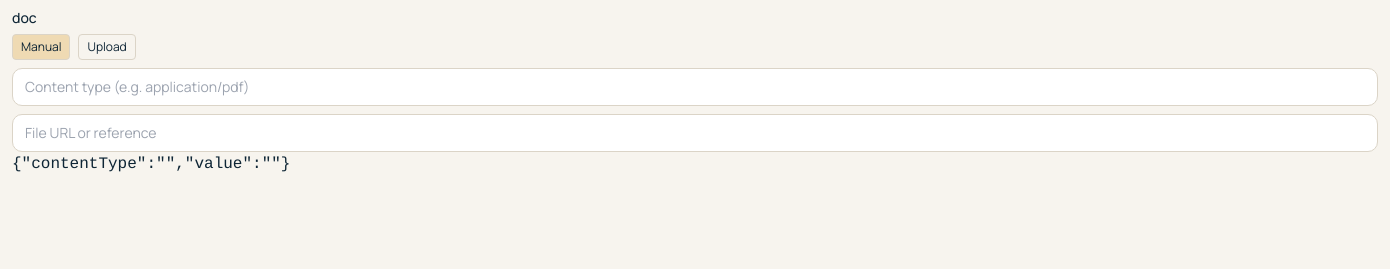
Test: FileField › uploads file and hydrates form value from response
This screenshot has width=1390, height=269.
Step 1. Click the button "Upload" → (107, 47), box x1=78 y1=34 x2=136 y2=60
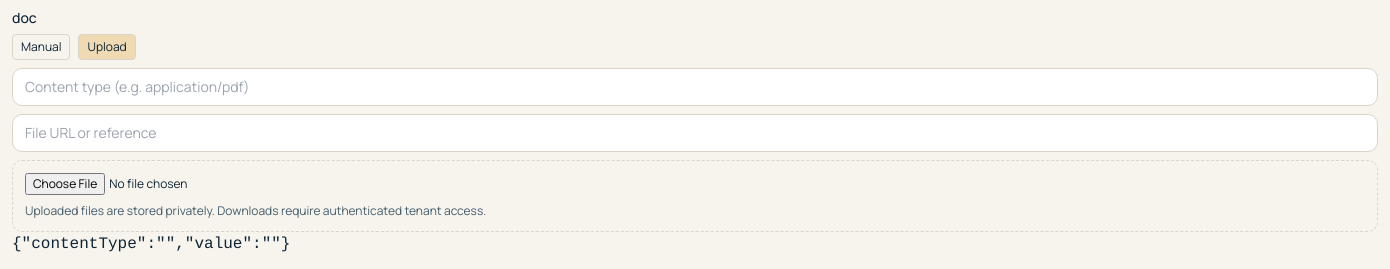
Result: the file field is shown at x1=25 y1=173 x2=1365 y2=195
